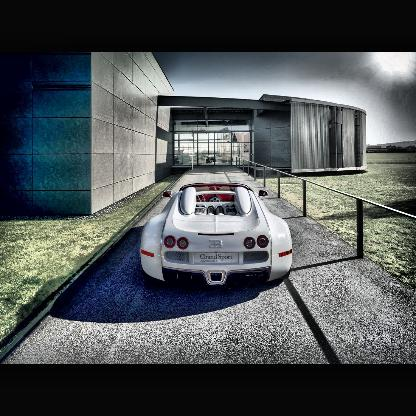Bugatti Veyron 16-4 Convertible 2009: (143, 184, 296, 290)
